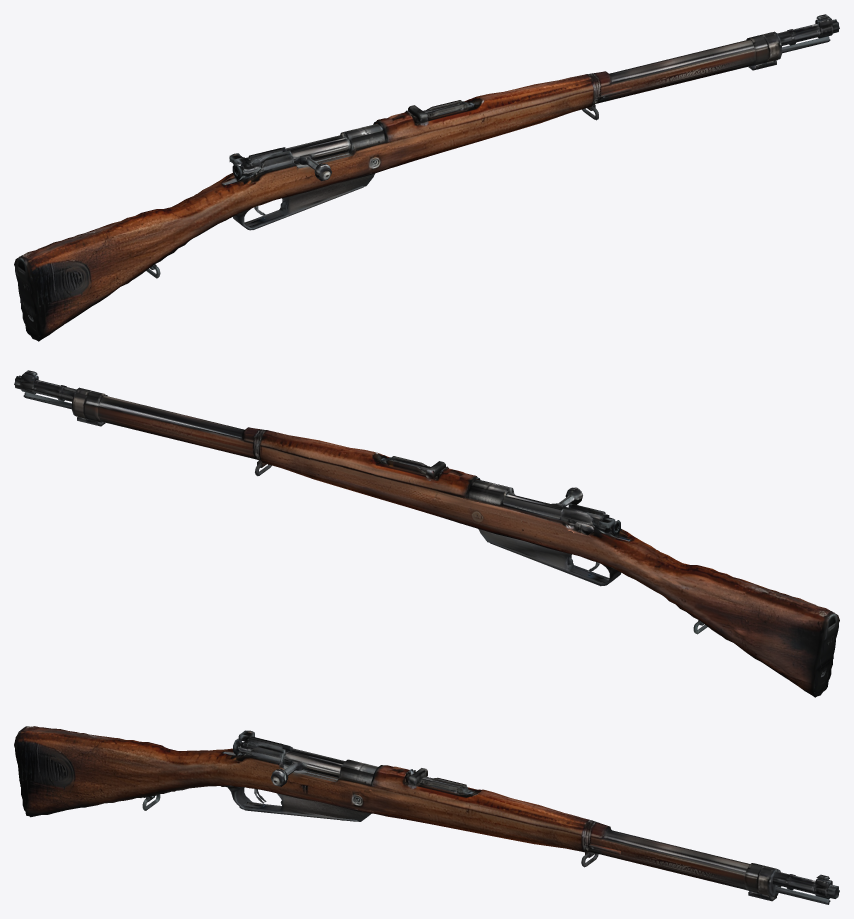
File: hanyang_type_88.glb
3 renders of one model, top to bottom at view 1: azimuth 30°, elevation 25°; view 2: azimuth 150°, elevation 25°; view 3: azimuth 330°, elevation 25°, orthographic.
Visible parts, largest first — view 1: Object_4, Object_5, Object_3; view 2: Object_4, Object_5, Object_3; view 3: Object_4, Object_5, Object_3.
Boxes of the visible parts, x1,y1,x2,y2 form: Object_4: [14, 14, 839, 341]; Object_5: [28, 74, 631, 319]; Object_3: [146, 106, 598, 278]; Object_4: [14, 370, 839, 697]; Object_5: [255, 430, 825, 675]; Object_3: [255, 463, 707, 634]; Object_4: [14, 726, 839, 904]; Object_5: [141, 744, 620, 857]; Object_3: [142, 730, 598, 867].
Size of the model in its own units: 0.998 by 0.1582 by 0.076.
4 materials, 4 textured.
